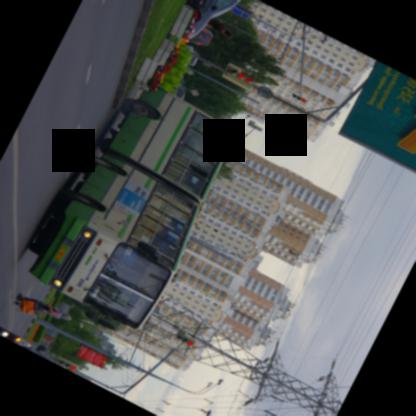suitcase: (20, 298, 34, 314)
